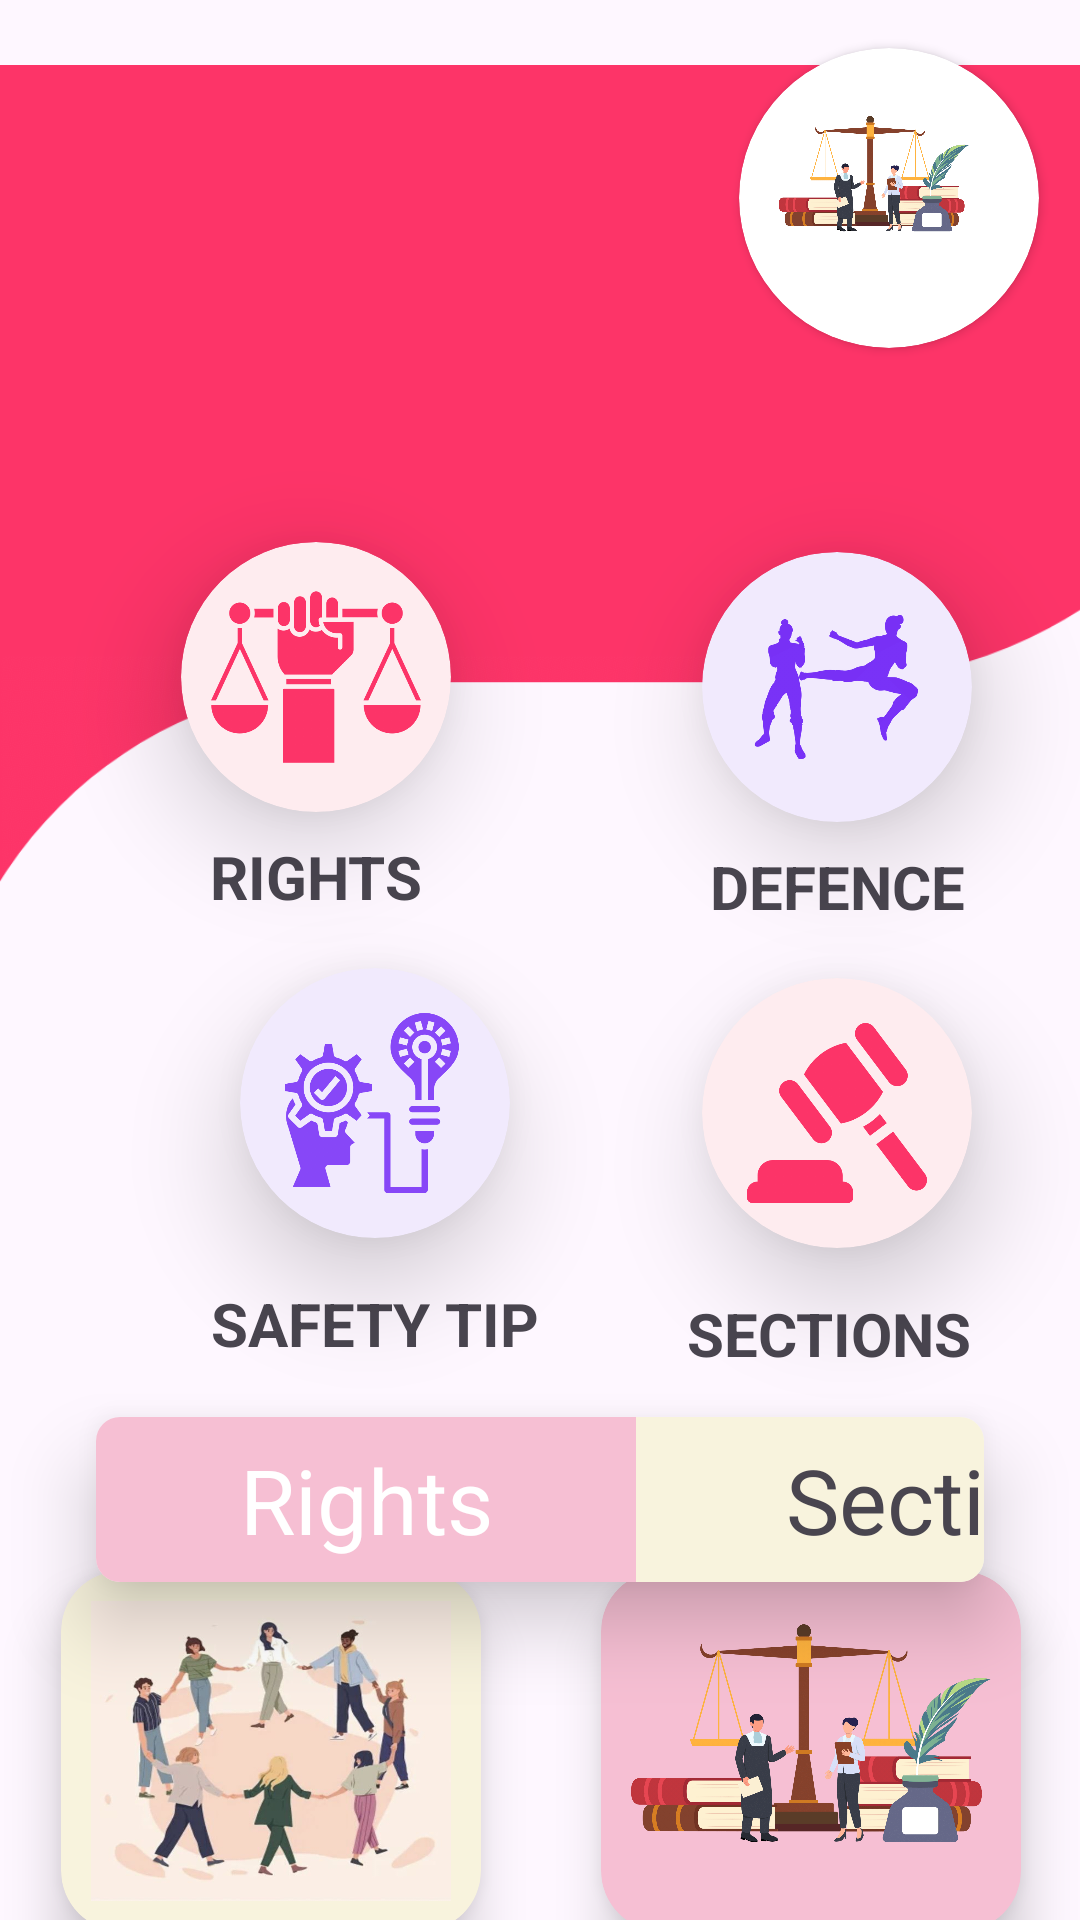

Icons on this 1080 x 1920 Android screen, each with its box as (x1, y1, x2, y2):
laws: (747, 1023, 927, 1203)
quicktip: (285, 1013, 459, 1193)
